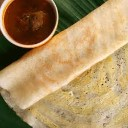dosa: (2, 1, 125, 128)
